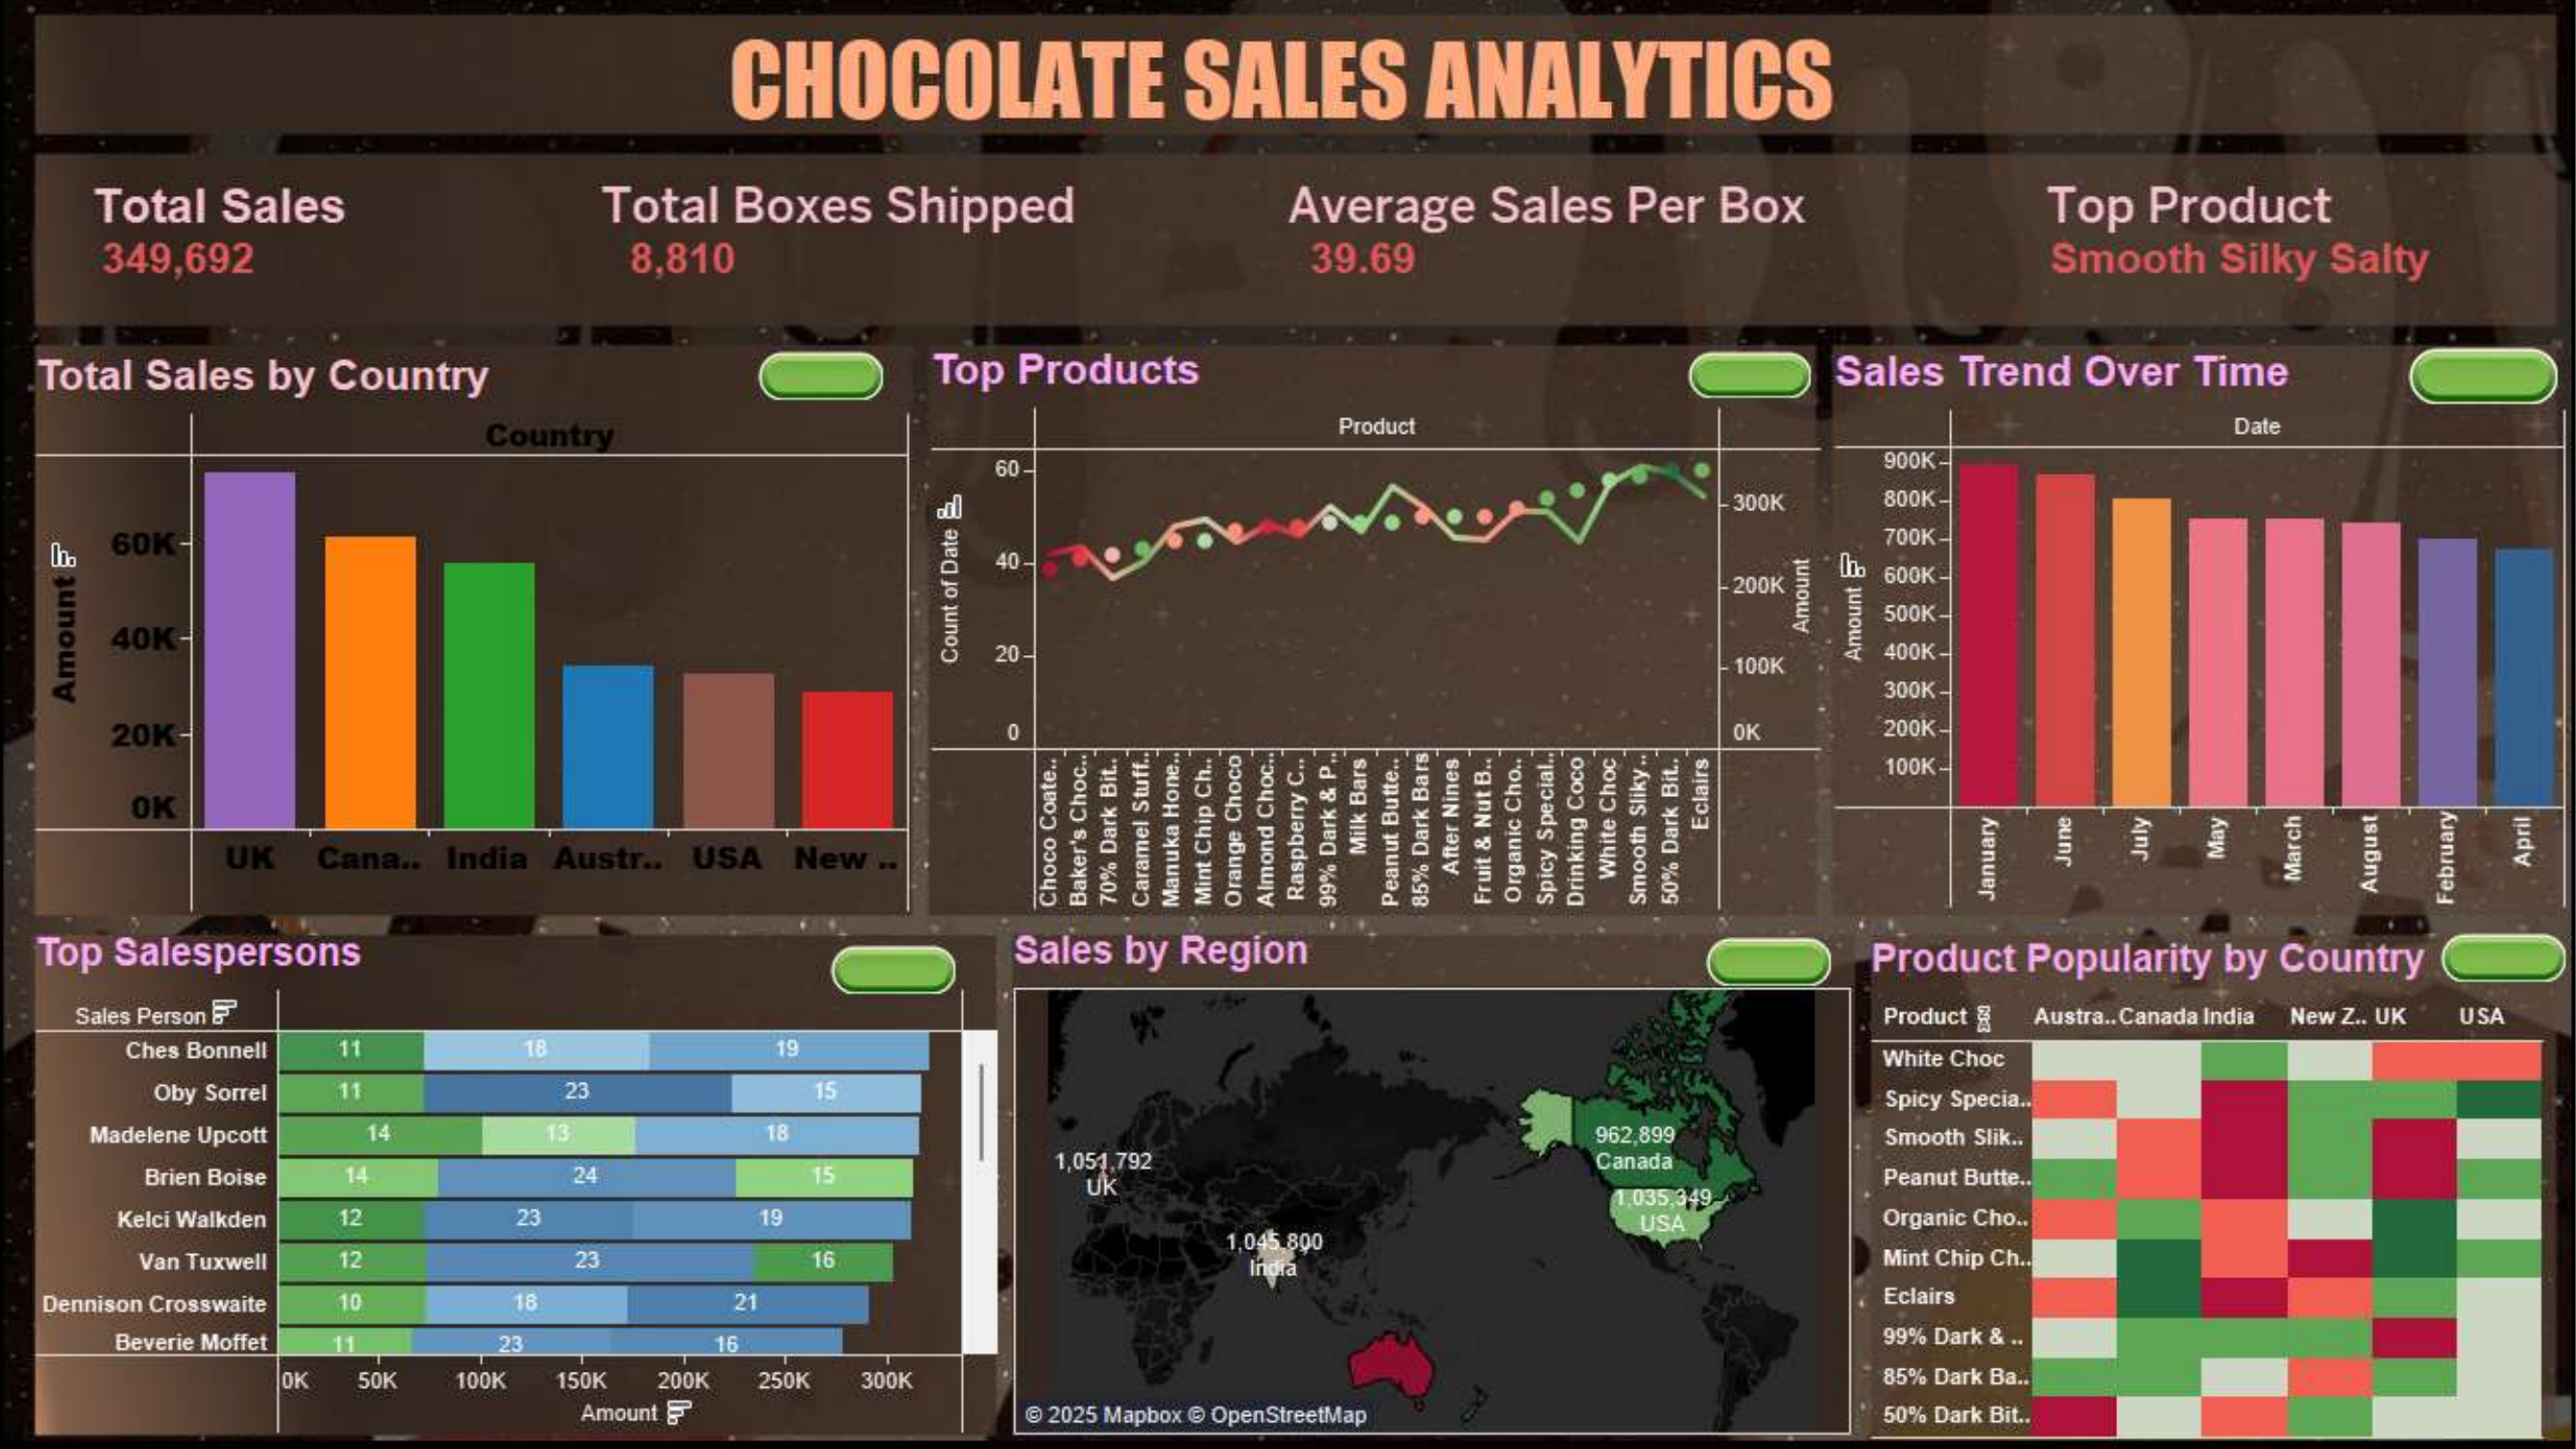

The dashboard page shown, as its layout file describes it:
{"tool":"tableau","page":{"name":"Choco Dashboard","canvas":[1300,750],"ordinal":0},"visuals":[{"type":"image","param":"Image/choco.png","box":[8,8,1284,734]},{"type":"text","box":[277,35,740,43]},{"type":"worksheet","title":"Sheet 10","mark":"Automatic","box":[52,99,1232,79]},{"type":"worksheet","title":"Sheet 3","mark":"Automatic","rows":["Date","Amount"],"cols":["Product"],"box":[473,188,443,281]},{"type":"dashboard-object","box":[1207,188,74,31]},{"type":"dashboard-object","box":[849,189,61,28]},{"type":"worksheet","title":"Sheet 2","mark":"Automatic","rows":["Amount"],"cols":["Date"],"box":[922,189,363,279]},{"type":"worksheet","title":"Sheet 1","mark":"Automatic","rows":["Amount"],"cols":["Country"],"box":[28,191,434,279]},{"type":"dashboard-object","box":[375,191,87,24]},{"type":"worksheet","title":"Sheet 8","mark":"Automatic","box":[514,478,416,251]},{"type":"worksheet","title":"Sheet 4","mark":"Bar","rows":["Sales Person"],"cols":["Amount"],"box":[28,479,478,250]},{"type":"dashboard-object","box":[1211,480,87,24]},{"type":"dashboard-object","box":[846,482,87,24]},{"type":"worksheet","title":"Sheet 6","mark":"Automatic","rows":["Product"],"cols":["Country"],"box":[940,482,334,249]},{"type":"dashboard-object","box":[411,486,87,24]}]}

Visuals, with their boxes in screenshot pixels (x1, y1, x2, y2), scaled from the page's 1300x750 canvas onto the 2576x1449 screenshot:
image: l=15, t=15, r=2561, b=1434
text: l=549, t=68, r=2015, b=151
"Sheet 10" worksheet: l=103, t=191, r=2544, b=344
"Sheet 3" worksheet: l=937, t=363, r=1815, b=906
dashboard-object: l=2392, t=363, r=2538, b=423
dashboard-object: l=1683, t=365, r=1803, b=419
"Sheet 2" worksheet: l=1827, t=365, r=2546, b=904
"Sheet 1" worksheet: l=55, t=369, r=916, b=908
dashboard-object: l=743, t=369, r=916, b=415
"Sheet 8" worksheet: l=1018, t=923, r=1843, b=1408
"Sheet 4" worksheet (Bar marks): l=55, t=925, r=1003, b=1408
dashboard-object: l=2399, t=927, r=2572, b=974
dashboard-object: l=1677, t=931, r=1849, b=978
"Sheet 6" worksheet: l=1862, t=931, r=2525, b=1412
dashboard-object: l=814, t=939, r=987, b=985
